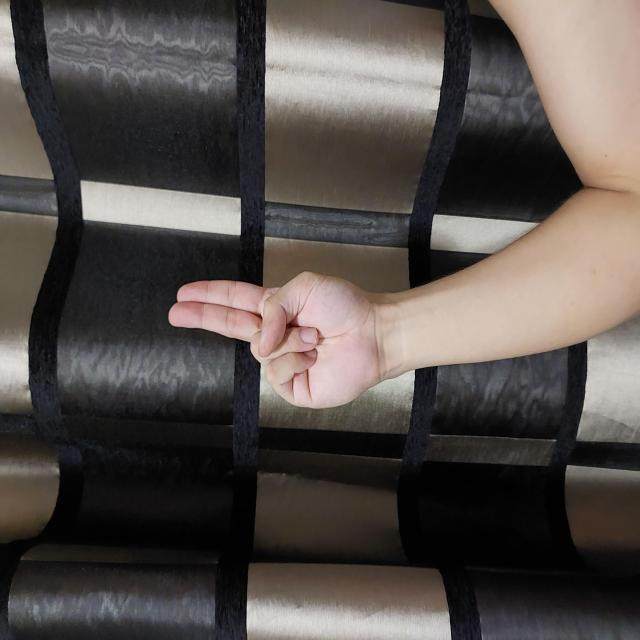U: (231, 167, 370, 380)
